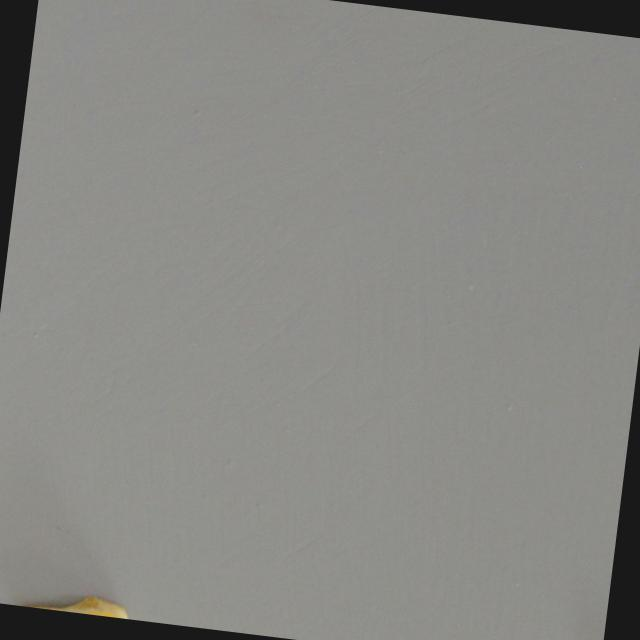pelicula: (15, 577, 136, 619)
